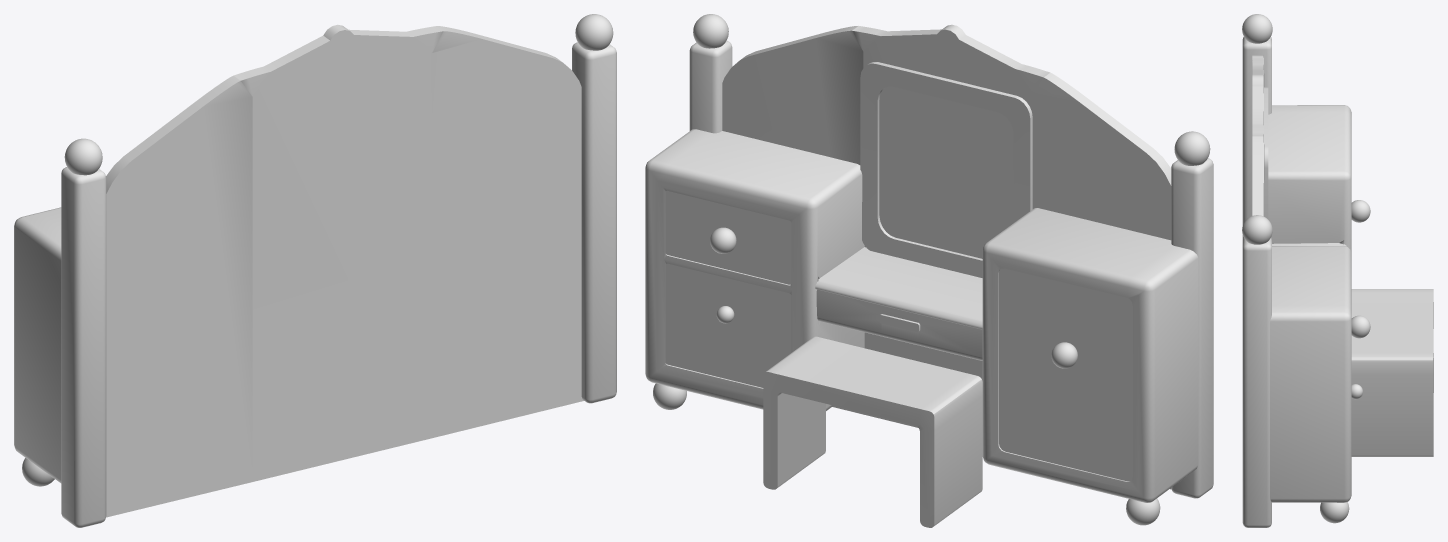
The model's file is DeskMirror.fbx.
3 views of the same model, side by side, from view 1: azimuth 30°, elevation 25°; view 2: azimuth 150°, elevation 25°; view 3: azimuth 270°, elevation 25° (orthographic). The views are drawn at different scales.
Visible parts, largest first — view 1: DeskMirror; view 2: DeskMirror; view 3: DeskMirror.
Part boxes in pixels (x1,y1,x2,y2): DeskMirror: [14, 14, 616, 527]; DeskMirror: [645, 14, 1213, 527]; DeskMirror: [1242, 14, 1433, 527].
Size of the model in its own units: 606 by 459 by 230.
